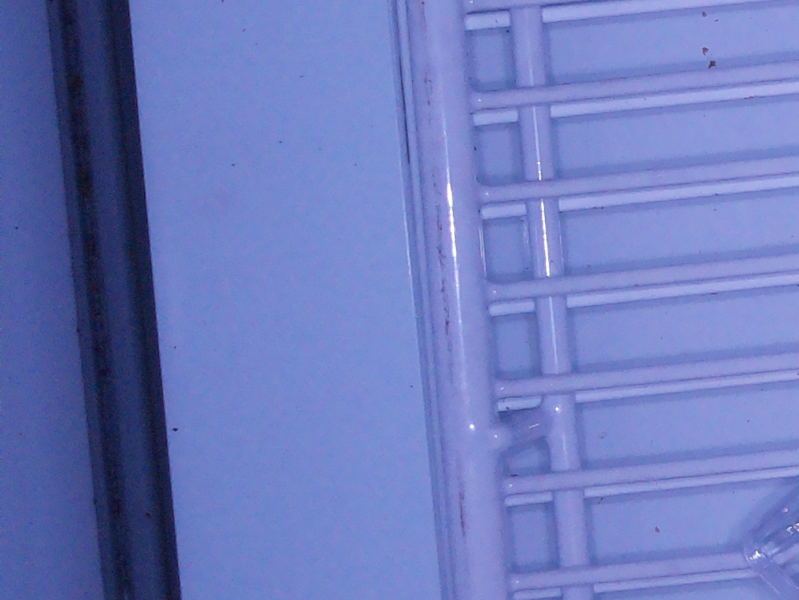plate: (743, 490, 799, 600)
